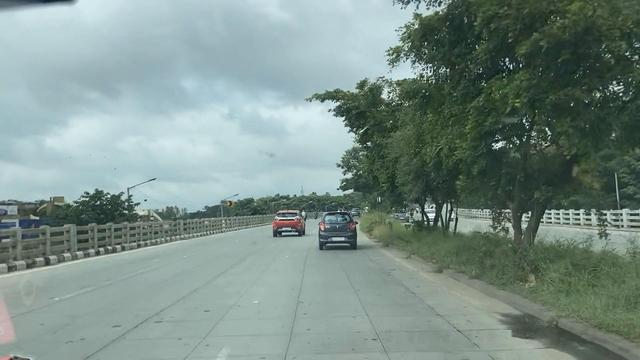LMV: (322, 209, 357, 245), (273, 208, 302, 237)
